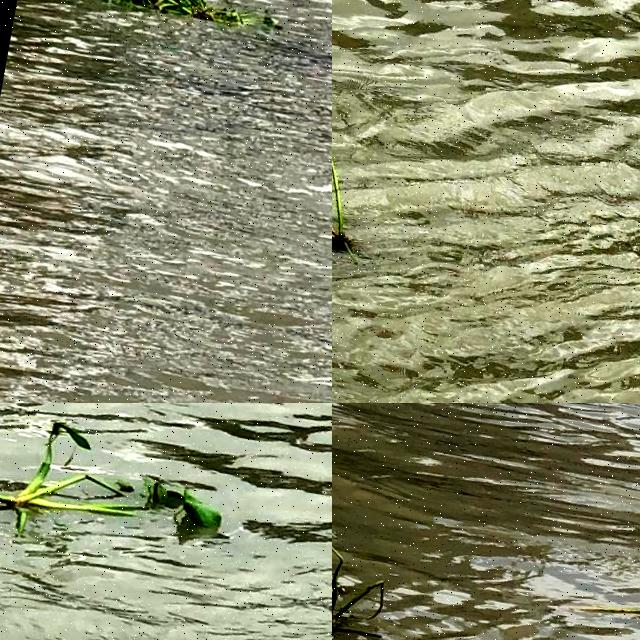water-hyacinth: (1, 404, 251, 584), (333, 493, 446, 640), (333, 126, 447, 267), (68, 1, 261, 46)
